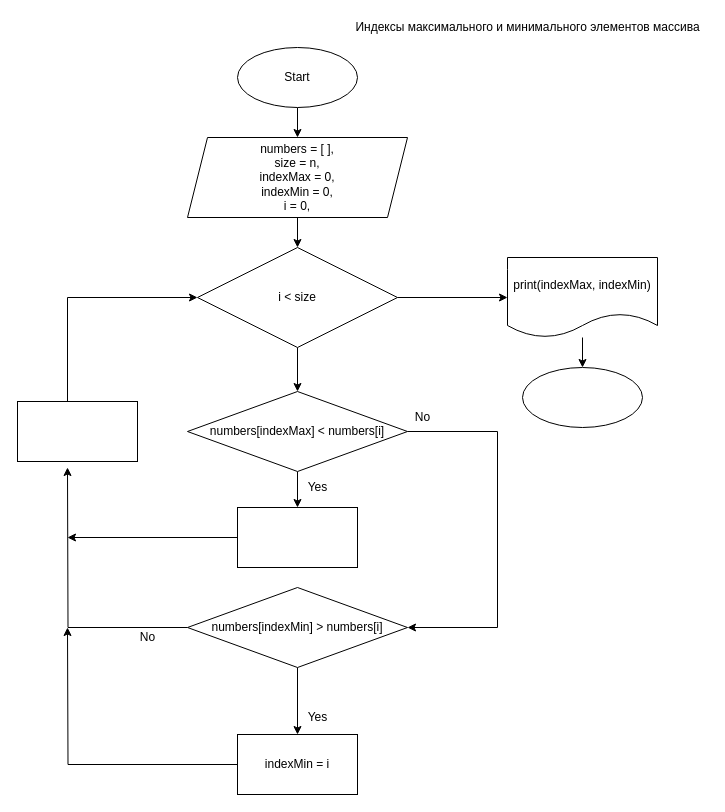
This 725x812 diagram has some shape labels left out. Each missing label, with the box of its shape:
End: (522, 366, 642, 428)
i = i + 1: (16, 400, 138, 462)
indexMax = i: (236, 506, 358, 568)
